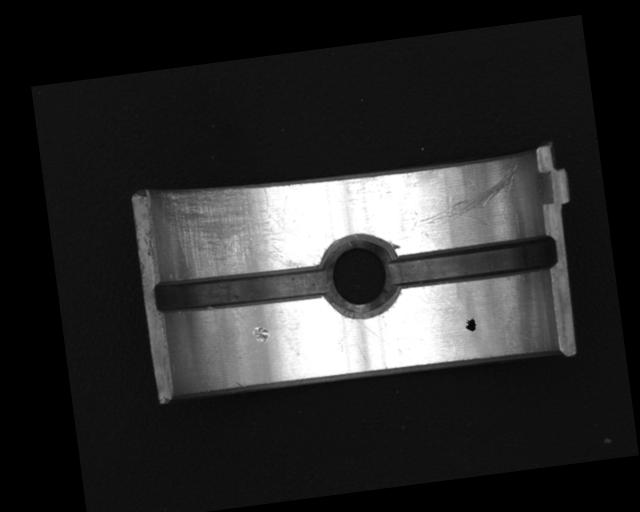blot: (464, 315, 477, 333)
bruise: (250, 323, 271, 344)
gap: (149, 257, 332, 319), (388, 233, 560, 291)
hole: (316, 231, 406, 320)
nick: (406, 163, 526, 237)
scratch: (157, 174, 300, 284)
